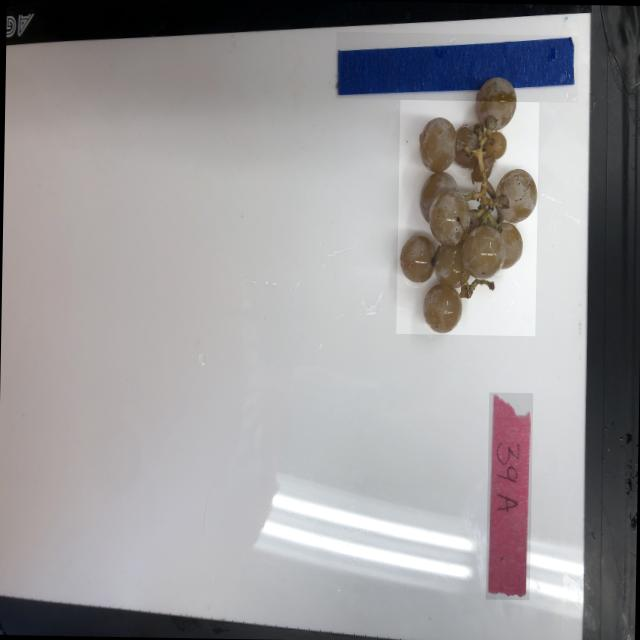grape_cluster: (395, 76, 538, 336)
index: (484, 392, 532, 600)
measure_label: (334, 32, 577, 102)
